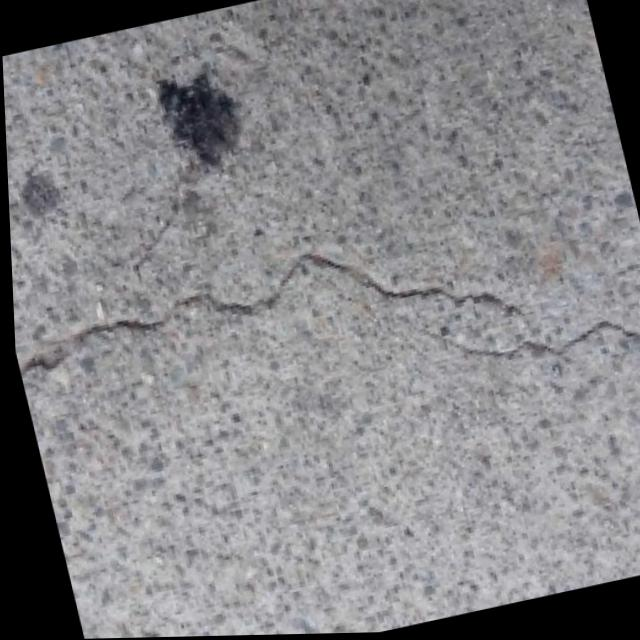Crack: (6, 157, 640, 518)
